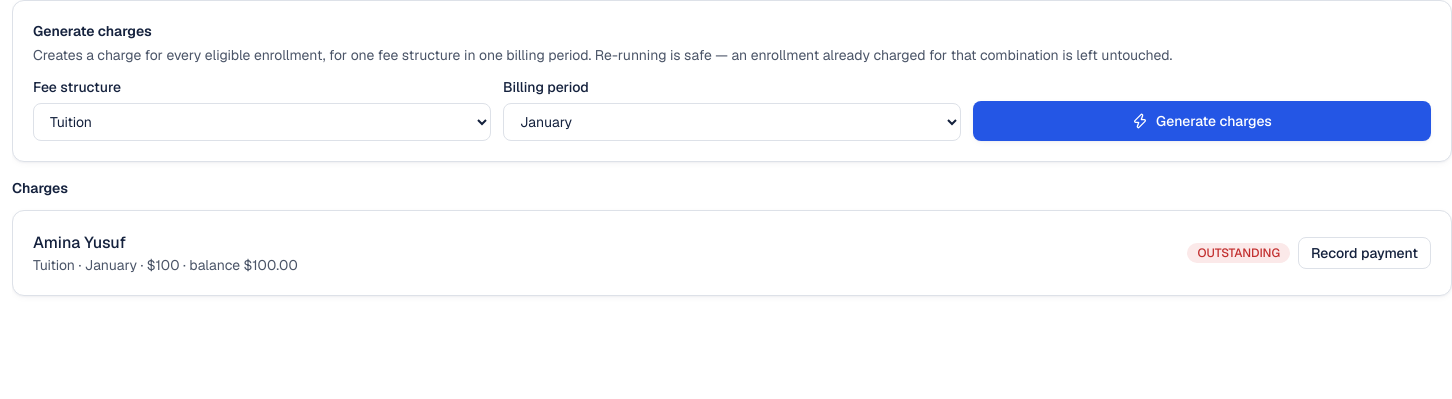
Test: ChargesTab — record a charge payment (mutation) › toggling 'Record payment' to 'Cancel' closes the form without submitting anything
The image size is (1452, 399).
Click the button "Record payment": x=1364, y=253 left=1298, top=237, right=1431, bottom=269
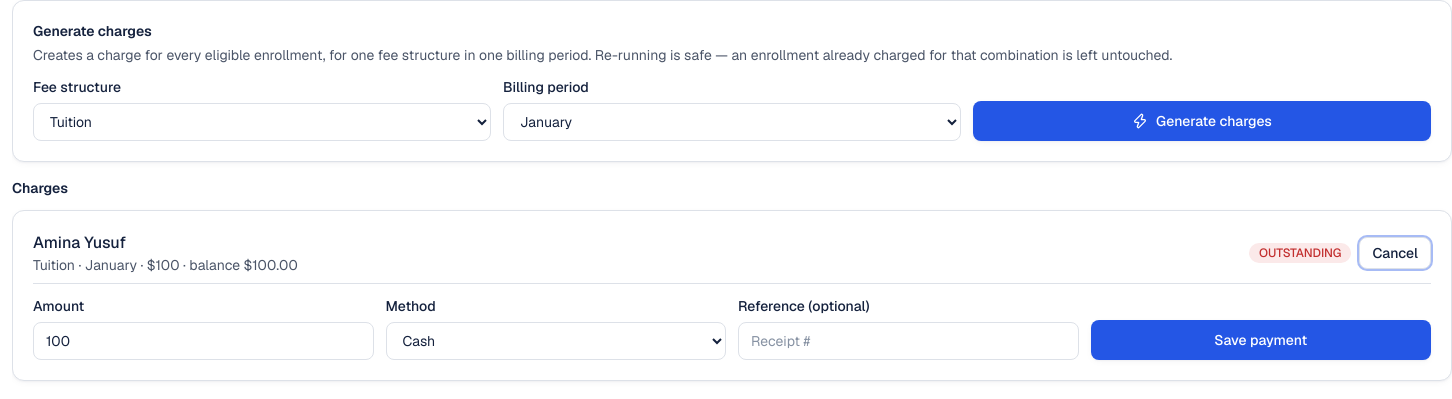
Check: the button "Save payment" is shown, box left=1090, top=320, right=1431, bottom=360
Click the button "Cancel": x=1395, y=253 left=1359, top=237, right=1431, bottom=269
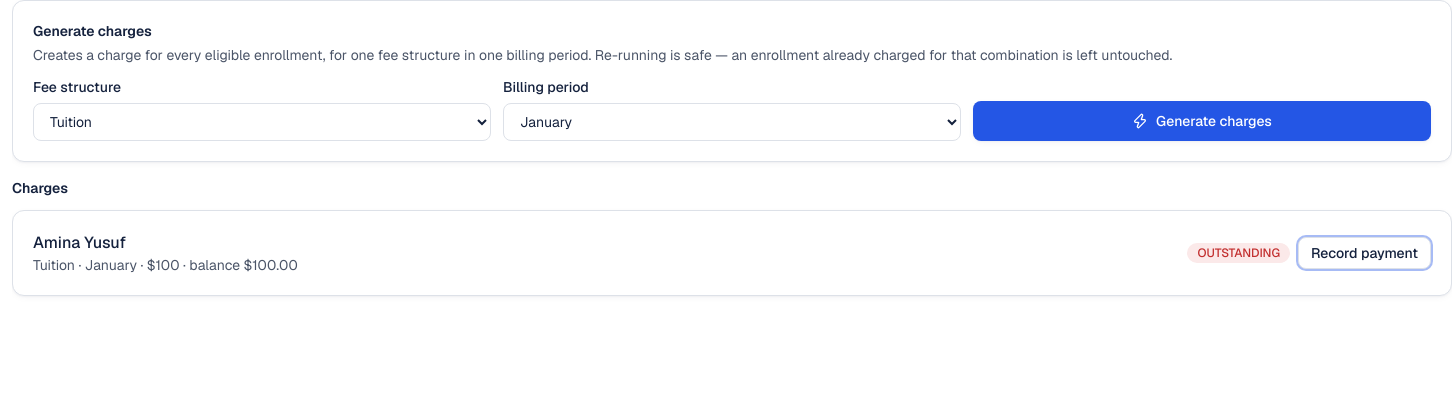
Check: the button "Save payment" is gone
